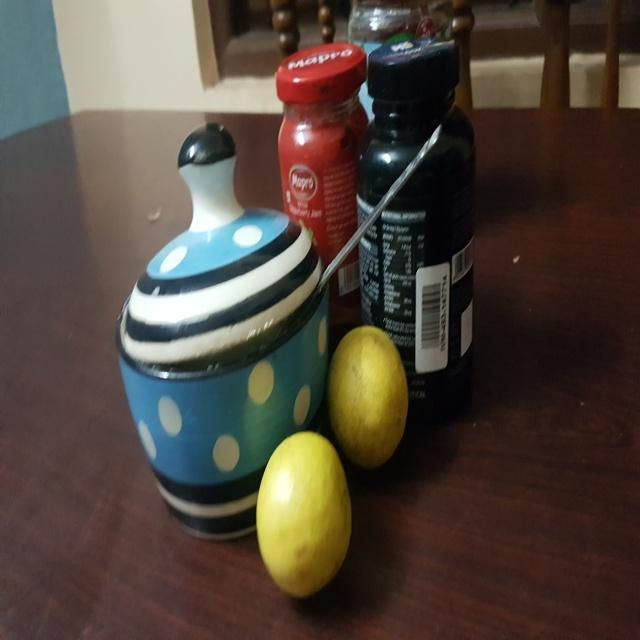lemon: (253, 422, 362, 599), (310, 317, 429, 476)
